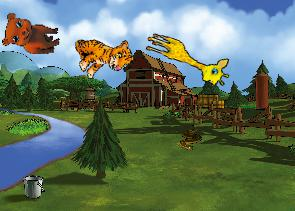bear: (2, 12, 60, 54)
giraffe: (139, 30, 234, 89)
tiger: (69, 22, 136, 85)
